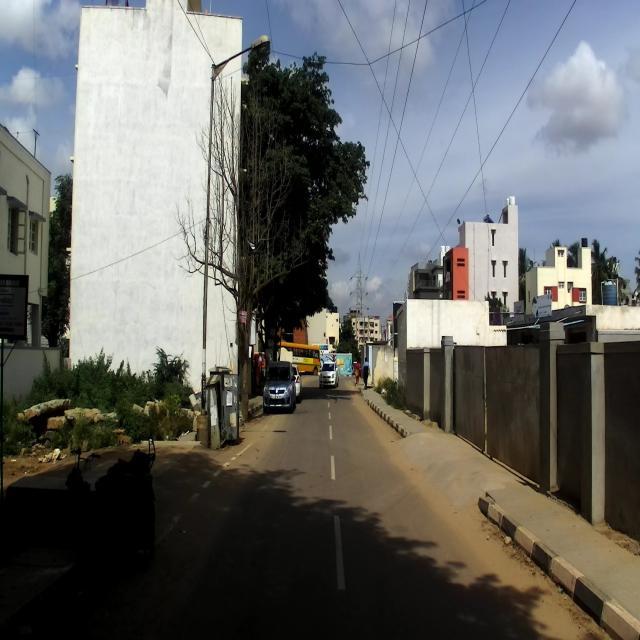car: (262, 359, 297, 417)
